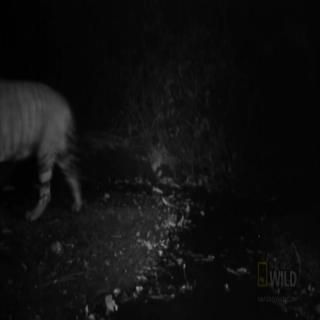Tiger: (0, 77, 85, 221)
